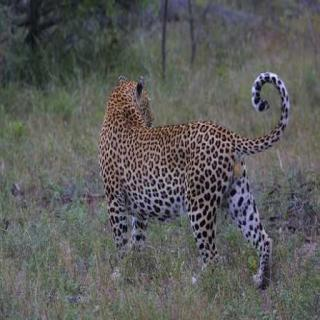Leopard: (96, 62, 292, 277)
